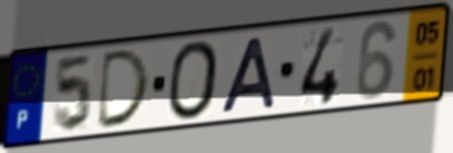4: (297, 23, 343, 107)
5: (49, 51, 96, 134)
6: (353, 17, 402, 103)
A: (218, 33, 280, 117)
D: (93, 46, 153, 133)
O: (167, 37, 222, 123)
